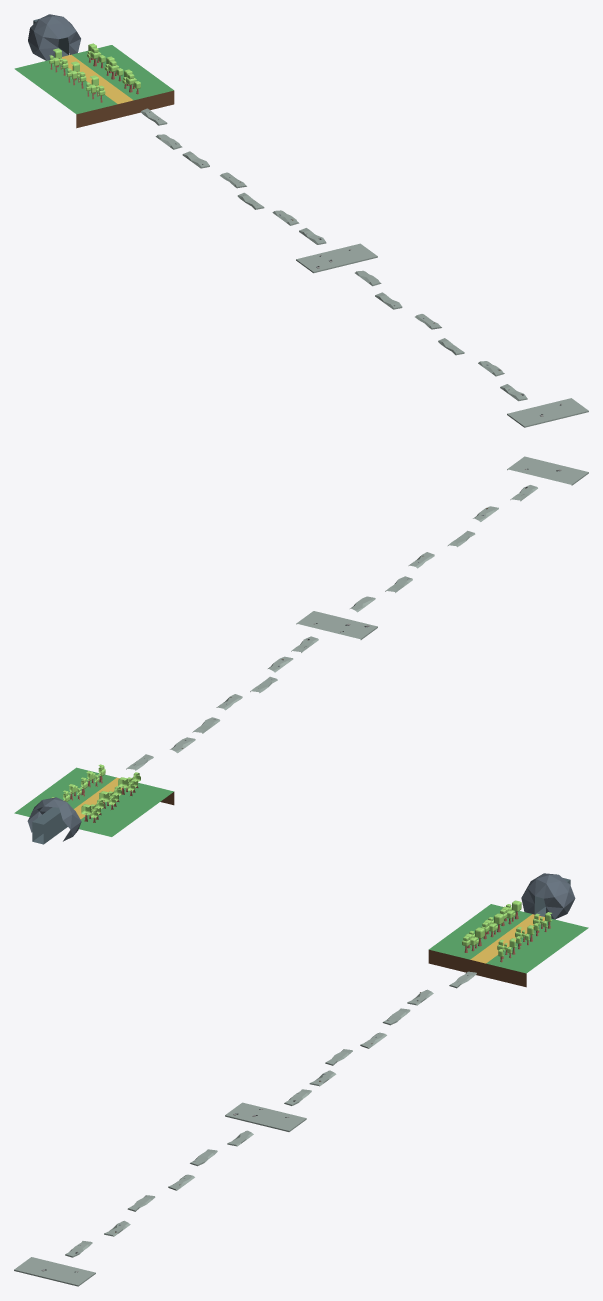
The model's file is road2.fbx.
The picture shows the model from 3 angles, top to bottom: view 1: azimuth 30°, elevation 25°; view 2: azimuth 150°, elevation 25°; view 3: azimuth 330°, elevation 25°; orthographic projection.
Visible parts, largest first — view 1: Plane.001, Вход в пещеру.001, Начало платформы.002, Начало платформы, Деревья 2.002, Деревья3.001, Платформа 1, Платформа 1.002, Платформа 2.002; view 2: Plane.001, Вход в пещеру.001, Начало платформы.002, Начало платформы, Деревья 2.002, Платформа 1, Платформа 1.002, Платформа 2.002, Деревья3.001; view 3: Plane.001, Вход в пещеру.001, Начало платформы.002, Начало платформы, Деревья 2.002, Деревья3.001, Платформа 1.002, Платформа 1, Платформа 2.002.
Boxes of the visible parts, left/top/right/bottom form: Plane.001: left=14, top=45, right=174, bottom=128; Вход в пещеру.001: left=28, top=14, right=80, bottom=60; Начало платформы.002: left=507, top=398, right=588, bottom=427; Начало платформы: left=296, top=243, right=377, bottom=273; Деревья 2.002: left=49, top=48, right=105, bottom=102; Деревья3.001: left=87, top=43, right=140, bottom=94; Платформа 1: left=220, top=172, right=326, bottom=244; Платформа 1.002: left=415, top=314, right=527, bottom=401; Платформа 2.002: left=141, top=108, right=209, bottom=168; Plane.001: left=14, top=767, right=174, bottom=836; Вход в пещеру.001: left=27, top=797, right=81, bottom=844; Начало платформы.002: left=507, top=456, right=588, bottom=485; Начало платформы: left=296, top=611, right=377, bottom=639; Деревья 2.002: left=81, top=772, right=140, bottom=822; Платформа 1: left=216, top=636, right=318, bottom=710; Платформа 1.002: left=408, top=485, right=537, bottom=568; Платформа 2.002: left=126, top=717, right=220, bottom=770; Деревья3.001: left=52, top=764, right=105, bottom=801; Plane.001: left=428, top=904, right=588, bottom=987; Вход в пещеру.001: left=521, top=873, right=575, bottom=919; Начало платформы.002: left=14, top=1257, right=95, bottom=1286; Начало платформы: left=225, top=1102, right=306, bottom=1131; Деревья 2.002: left=462, top=900, right=521, bottom=952; Деревья3.001: left=497, top=912, right=551, bottom=962; Платформа 1.002: left=65, top=1174, right=194, bottom=1257; Платформа 1: left=284, top=1032, right=386, bottom=1105; Платформа 2.002: left=382, top=971, right=476, bottom=1025.
Size of the model in its own units: 34218 by 15789 by 313516.
